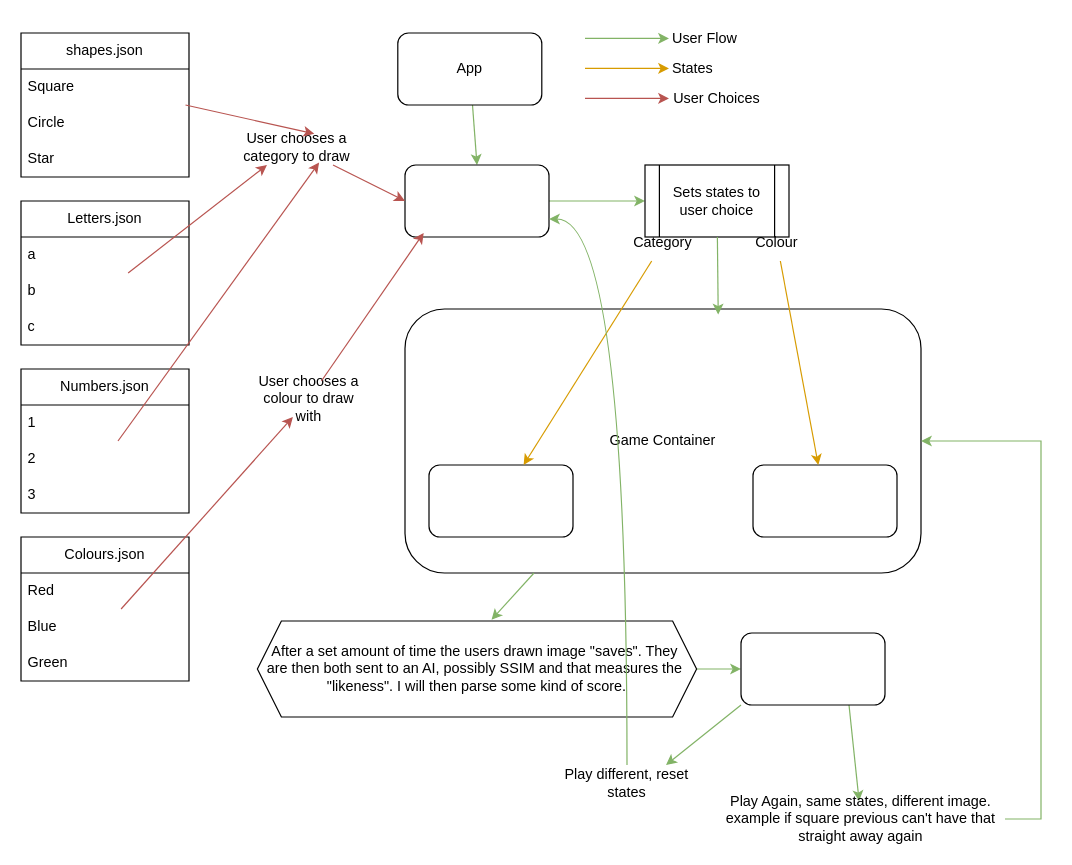
This 1072x865 diagram has some shape labels left out. Here are the shapes that lost their labels. From the top down, the centre of each, then its label:
At point 476,200: "Home Screen".
At point 500,500: "Picture".
At point 824,500: "Canvas".
At point 812,668: "Score/Calculation".
